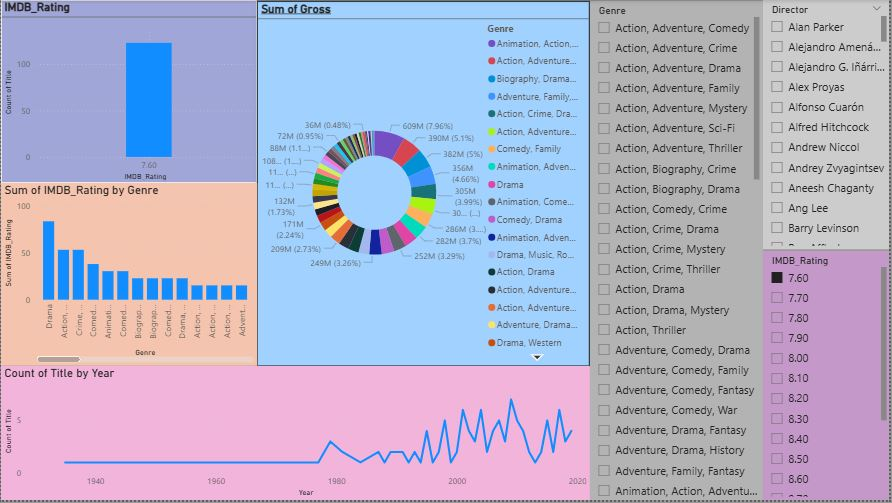

The page's visual inventory and layout, read from the dashboard file:
{"tool":"powerbi","page":{"name":"Page 1","canvas":[1280,720],"ordinal":0},"visuals":[{"type":"clusteredColumnChart","fields":{"Category":["imdb_top_1000.IMDB_Rating"],"Y":["imdb_top_1000.Title"]},"box":[10.1,0,358.6,279.4],"z":0},{"type":"donutChart","fields":{"Category":["imdb_top_1000.Genre"],"Y":["imdb_top_1000.Gross"]},"box":[403.2,1.4,445,525.6],"z":1000},{"type":"clusteredColumnChart","fields":{"Category":["imdb_top_1000.Genre"],"Y":["imdb_top_1000.IMDB_Rating"]},"box":[0,311,368.6,216],"z":2000},{"type":"lineChart","fields":{"Category":["imdb_top_1000.Year"],"Y":["imdb_top_1000.Title"]},"box":[0,537.1,848.2,182.9],"z":3000},{"type":"slicer","fields":{"Values":["imdb_top_1000.Genre"]},"box":[848.2,1.4,249.1,718.6],"z":4000},{"type":"slicer","fields":{"Values":["imdb_top_1000.Director"]},"box":[1097.3,1.4,182.9,358.6],"z":4001},{"type":"slicer","fields":{"Values":["imdb_top_1000.IMDB_Rating"]},"box":[1097.3,361.4,182.9,358.6],"z":4002}]}

Visuals, with their boxes in screenshot pixels (x1, y1, x2, y2), scaled from the page's 1280x720 canvas onto the 892x503 screenshot:
clusteredColumnChart - imdb_top_1000.IMDB_Rating x imdb_top_1000.Title: left=7, top=0, right=257, bottom=195
donutChart - imdb_top_1000.Genre x imdb_top_1000.Gross: left=281, top=1, right=591, bottom=368
clusteredColumnChart - imdb_top_1000.Genre x imdb_top_1000.IMDB_Rating: left=0, top=217, right=257, bottom=368
lineChart - imdb_top_1000.Year x imdb_top_1000.Title: left=0, top=375, right=591, bottom=502
slicer - imdb_top_1000.Genre: left=591, top=1, right=765, bottom=502
slicer - imdb_top_1000.Director: left=765, top=1, right=891, bottom=252
slicer - imdb_top_1000.IMDB_Rating: left=765, top=252, right=891, bottom=502
